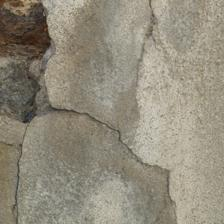Crack: (75, 0, 168, 82), (38, 0, 138, 74)
